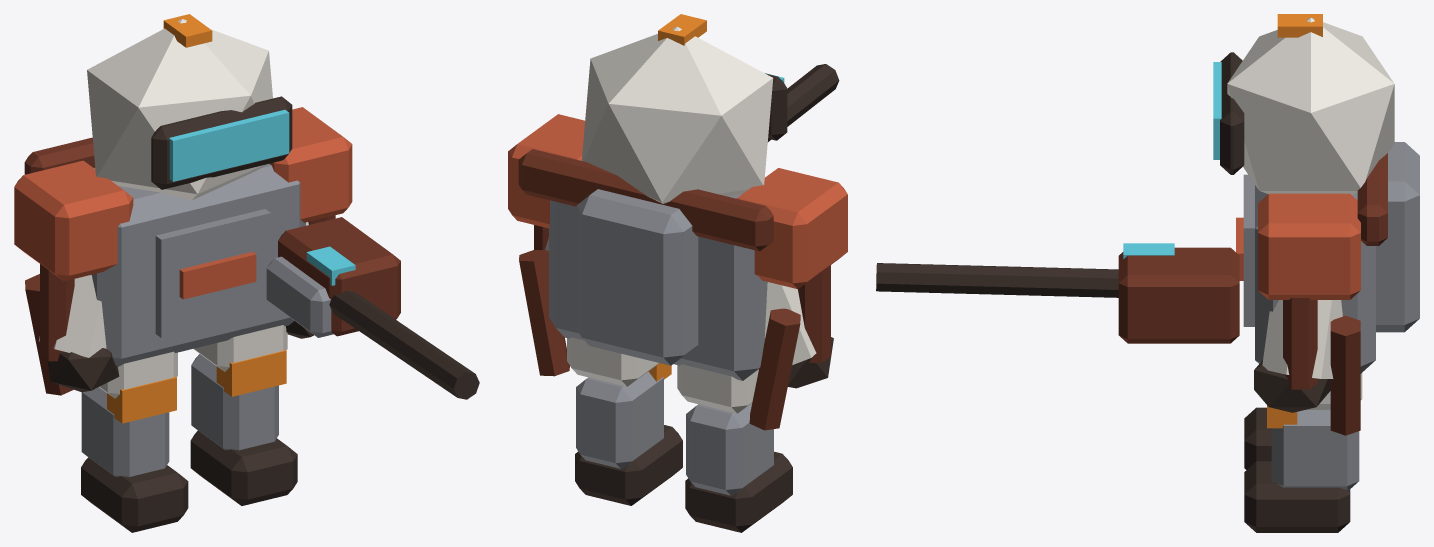
File: u_man_at_arms.glb
3 views of the same model, side by side, from view 1: azimuth 30°, elevation 25°; view 2: azimuth 150°, elevation 25°; view 3: azimuth 270°, elevation 25° (orthographic).
Visible parts, largest first — view 1: u_man_at_arms; view 2: u_man_at_arms; view 3: u_man_at_arms.
Boxes of the visible parts, x1,y1,x2,y2 form: u_man_at_arms: (14,14,479,532); u_man_at_arms: (508,14,847,532); u_man_at_arms: (876,14,1419,532).
Bounding box in the file's own units: 0.2097 × 0.32 × 0.3304.
